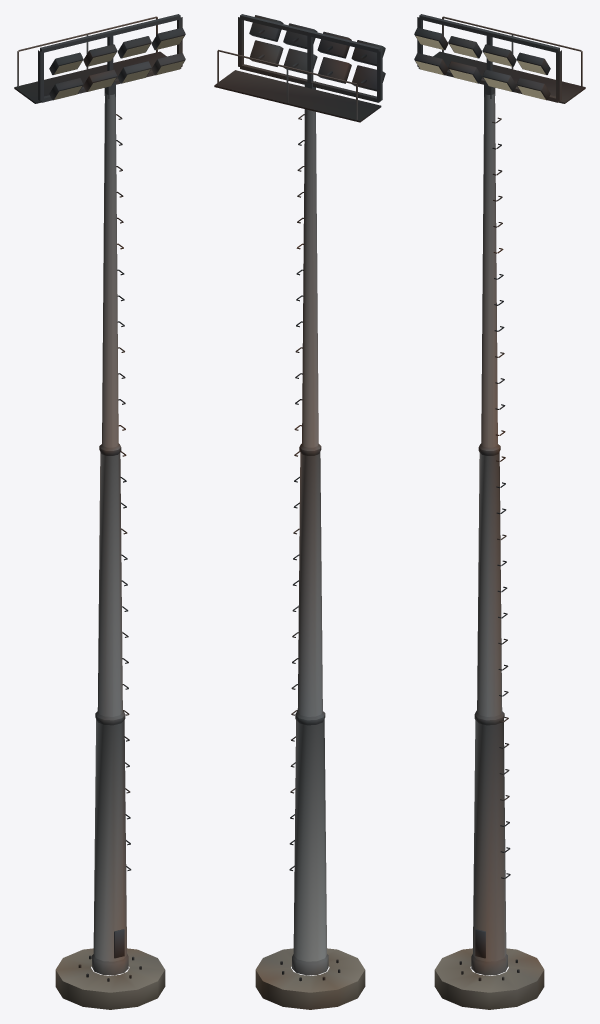
Rendered from light_mast.glb.
The picture shows the model from 3 angles, left to right: view 1: azimuth 30°, elevation 25°; view 2: azimuth 150°, elevation 25°; view 3: azimuth 330°, elevation 25°; orthographic projection.
Visible parts, largest first — view 1: LightMast; view 2: LightMast; view 3: LightMast.
Boxes of the visible parts, bbox=[...] form: LightMast: bbox=[14, 14, 185, 1009]; LightMast: bbox=[214, 14, 385, 1009]; LightMast: bbox=[414, 14, 585, 1009].
Size of the model in its own units: 4 by 25 by 2.6.
